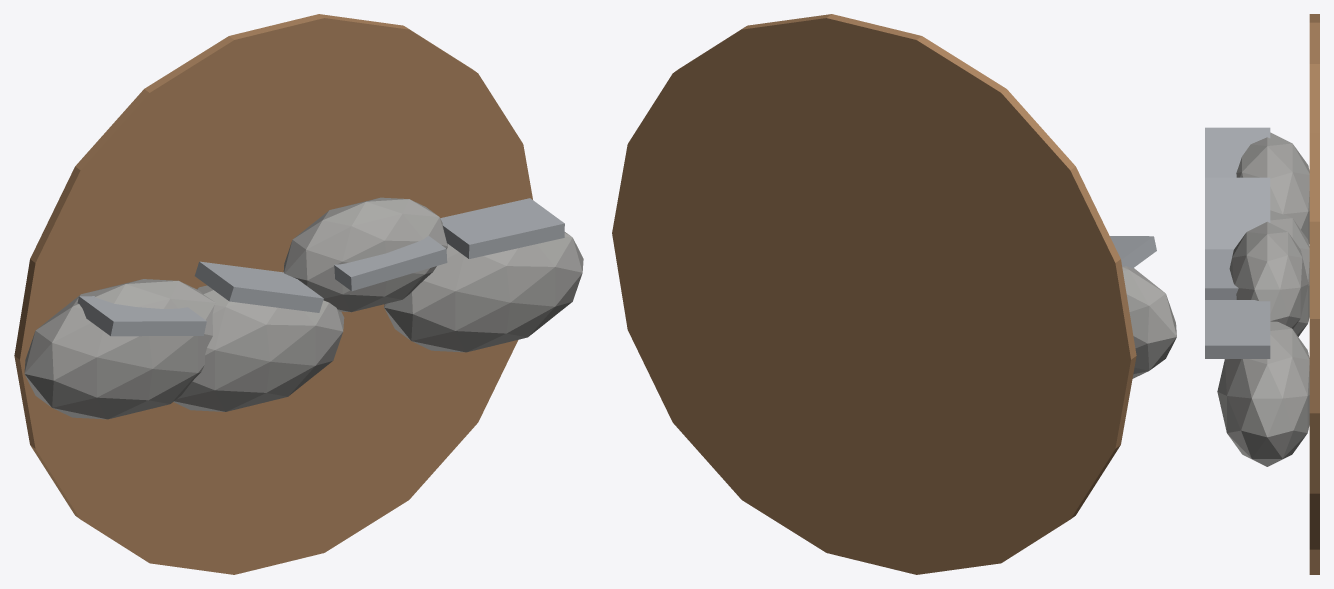
The model's file is 03_ambient_object_cluster.glb.
The picture shows the model from 3 angles, left to right: view 1: azimuth 30°, elevation 25°; view 2: azimuth 150°, elevation 25°; view 3: azimuth 270°, elevation 25°; orthographic projection. The views are drawn at different scales.
Visible parts, largest first — view 1: scatter_base, scrap_rock_0, scrap_rock_3, scrap_rock_1, scrap_rock_2, scrap_plate_3, scrap_plate_1, scrap_plate_0, scrap_plate_2; view 2: scatter_base, scrap_rock_0, scrap_plate_0; view 3: scrap_rock_3, scatter_base, scrap_rock_2, scrap_plate_1, scrap_rock_0, scrap_plate_3, scrap_plate_0, scrap_plate_2, scrap_rock_1.
Part boxes in pixels (bbox=[...]): scatter_base: bbox=[14, 14, 532, 574]; scrap_rock_0: bbox=[24, 279, 215, 419]; scrap_rock_3: bbox=[384, 232, 583, 352]; scrap_rock_1: bbox=[173, 285, 344, 411]; scrap_rock_2: bbox=[283, 197, 447, 312]; scrap_plate_3: bbox=[440, 198, 564, 258]; scrap_plate_1: bbox=[194, 261, 323, 312]; scrap_plate_0: bbox=[77, 296, 206, 336]; scrap_plate_2: bbox=[334, 236, 447, 291]; scatter_base: bbox=[612, 14, 1136, 574]; scrap_rock_0: bbox=[1122, 266, 1176, 378]; scrap_plate_0: bbox=[1110, 236, 1156, 268]; scrap_rock_3: bbox=[1217, 321, 1309, 466]; scatter_base: bbox=[1309, 14, 1319, 574]; scrap_rock_2: bbox=[1229, 221, 1308, 328]; scrap_plate_1: bbox=[1205, 177, 1270, 249]; scrap_rock_0: bbox=[1236, 132, 1309, 244]; scrap_plate_3: bbox=[1205, 300, 1270, 358]; scrap_plate_0: bbox=[1205, 127, 1270, 177]; scrap_plate_2: bbox=[1205, 249, 1238, 299]; scrap_rock_1: bbox=[1270, 210, 1309, 336].
Bounding box in the file's own units: 2.05 × 1.87 × 0.3875.
